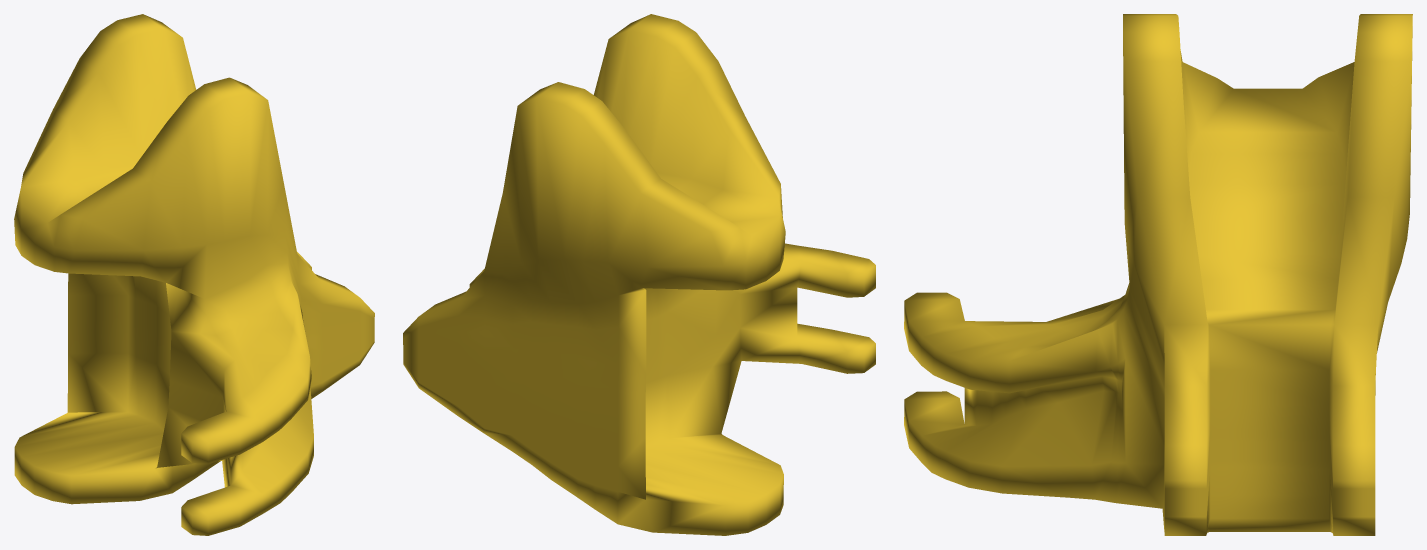
File: intermediate.dae
The picture shows the model from 3 angles, left to right: view 1: azimuth 30°, elevation 25°; view 2: azimuth 150°, elevation 25°; view 3: azimuth 270°, elevation 25°; orthographic projection. The views are drawn at different scales.
Parts seen in each view (by area): view 1: Cube; view 2: Cube; view 3: Cube.
Boxes of the visible parts, x1,y1,x2,y2 form: Cube: [14, 14, 374, 535]; Cube: [403, 14, 875, 535]; Cube: [904, 14, 1412, 535].
Bounding box in the file's own units: 0.7677 × 0.8155 × 0.9415.
1 material, 1 textured.
